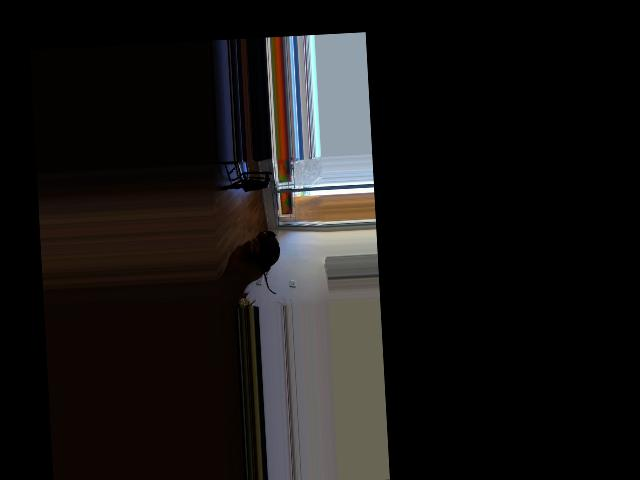beet: (257, 229, 281, 294)
